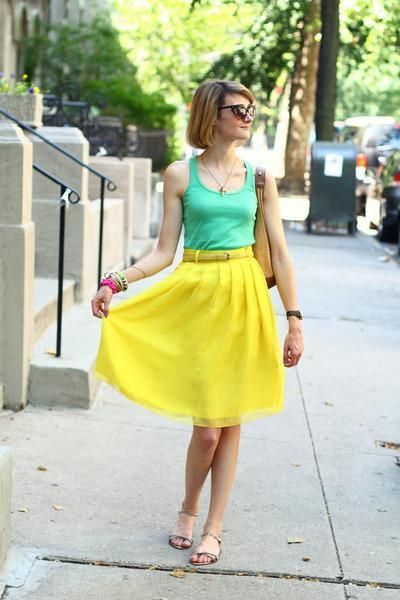skirt: (87, 247, 287, 432)
vest: (175, 151, 268, 258)
